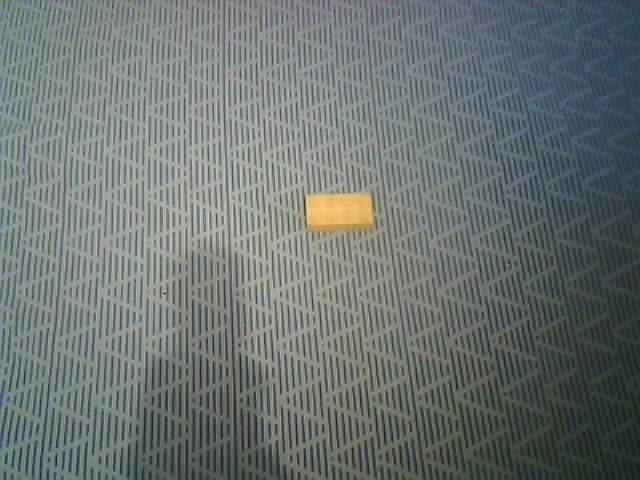lego: (304, 192, 375, 232)
